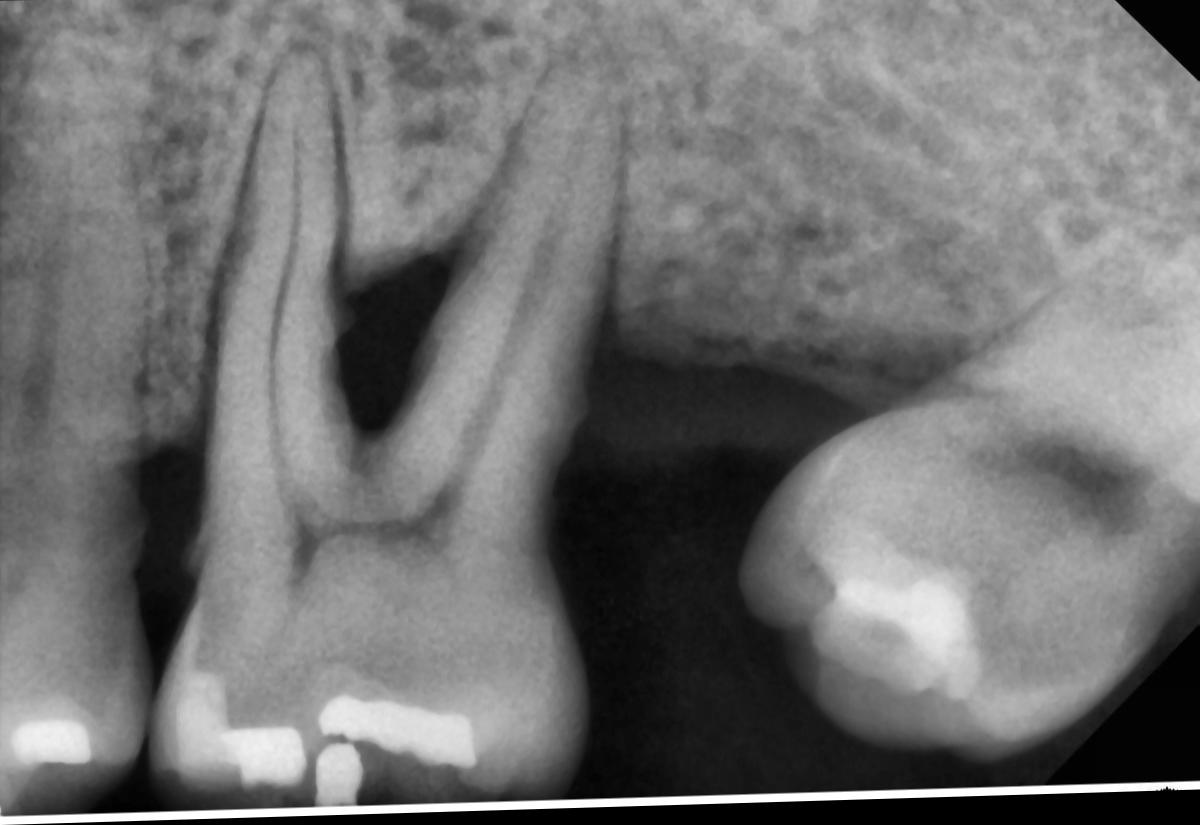Individual Tooth: (155, 53, 619, 805), (741, 240, 1200, 762), (0, 25, 148, 805)
